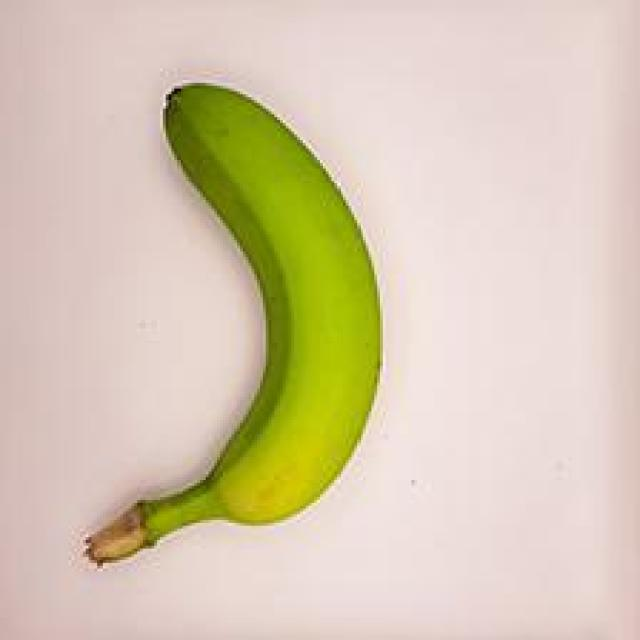Unripe: (53, 66, 441, 572)
